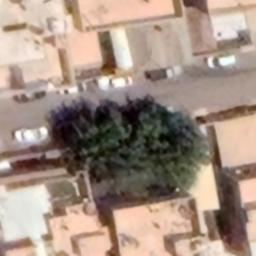sedan: (14, 124, 50, 146)
